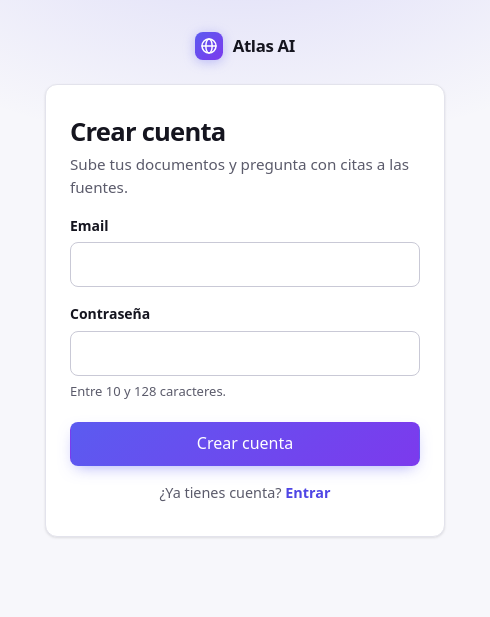
Test: registro › muestra el error de un email ya registrado
This screenshot has width=490, height=617.
Type "ana@example.com" into the field labelled "Email" at (245, 265), box [70,242,420,288]
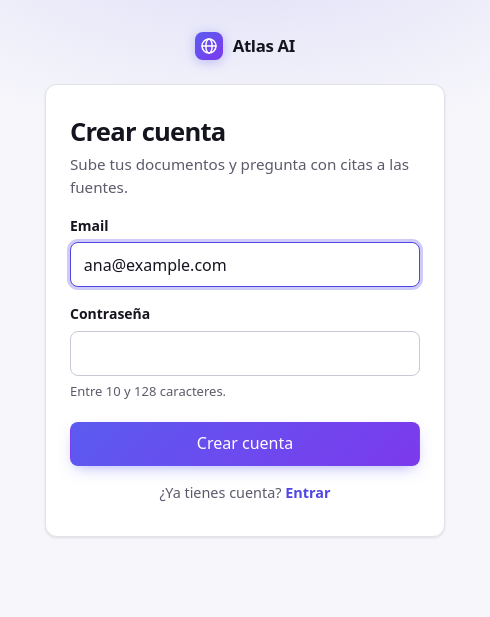
Type "correct horse battery" into the password field labelled "Contraseña" at (245, 354), box [70,331,420,376]
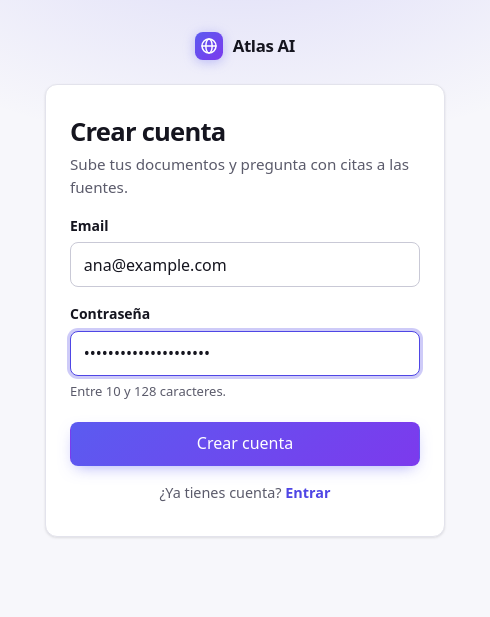
Click the button "Crear cuenta" at (245, 444), box [70,422,420,466]
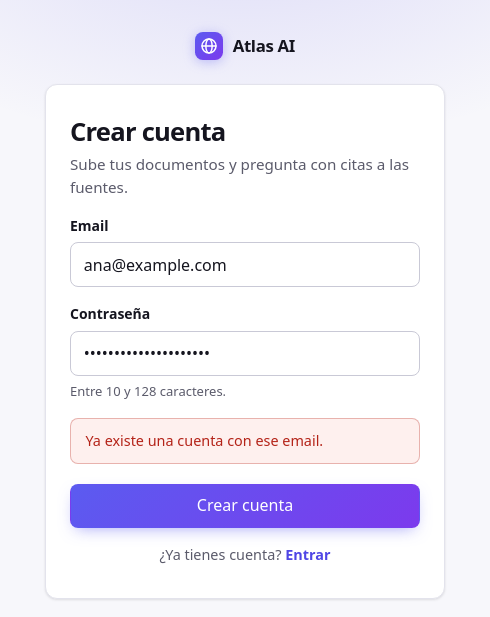
Check: the message reads "Ya existe una cuenta con ese email.", box [85,431,323,450]
